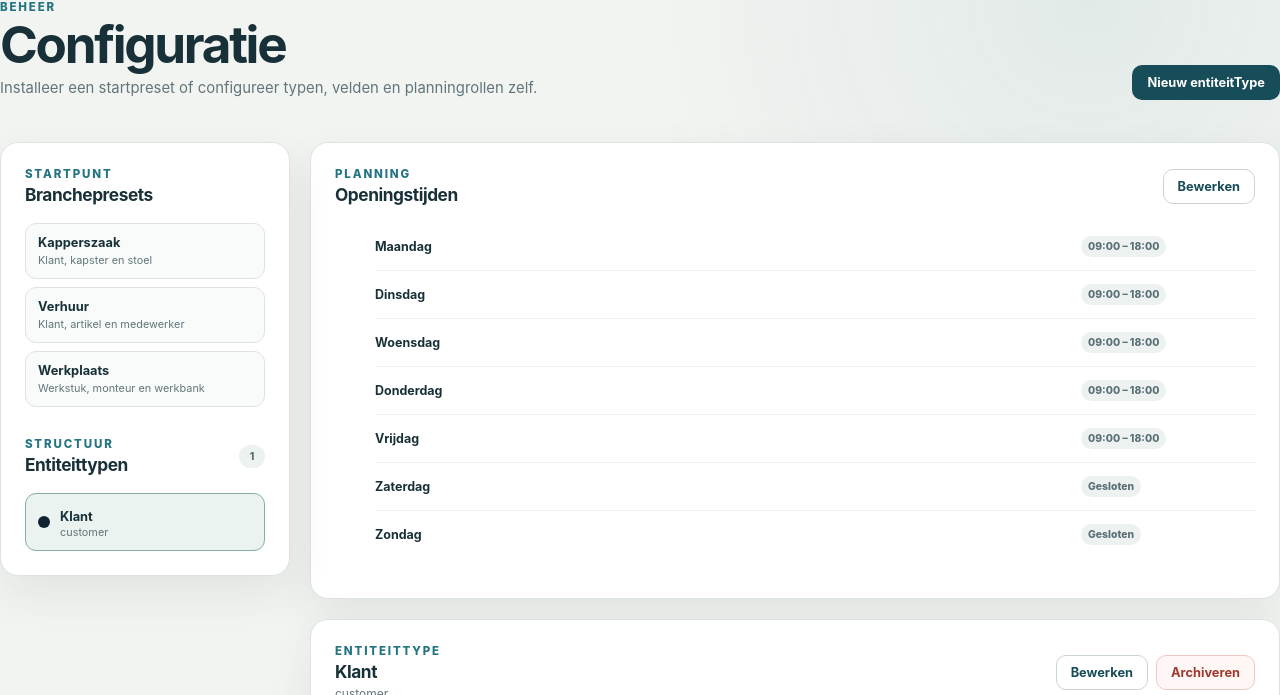
Test: ConfigurationPage › toont een duidelijke API-fout als presetinstallatie faalt
Expected: the heading "Klant" is shown, [335,661,377,682]
Click the button "Kapperszaak Klant, kapster en stoel" at [145, 251], box [25,223,265,279]
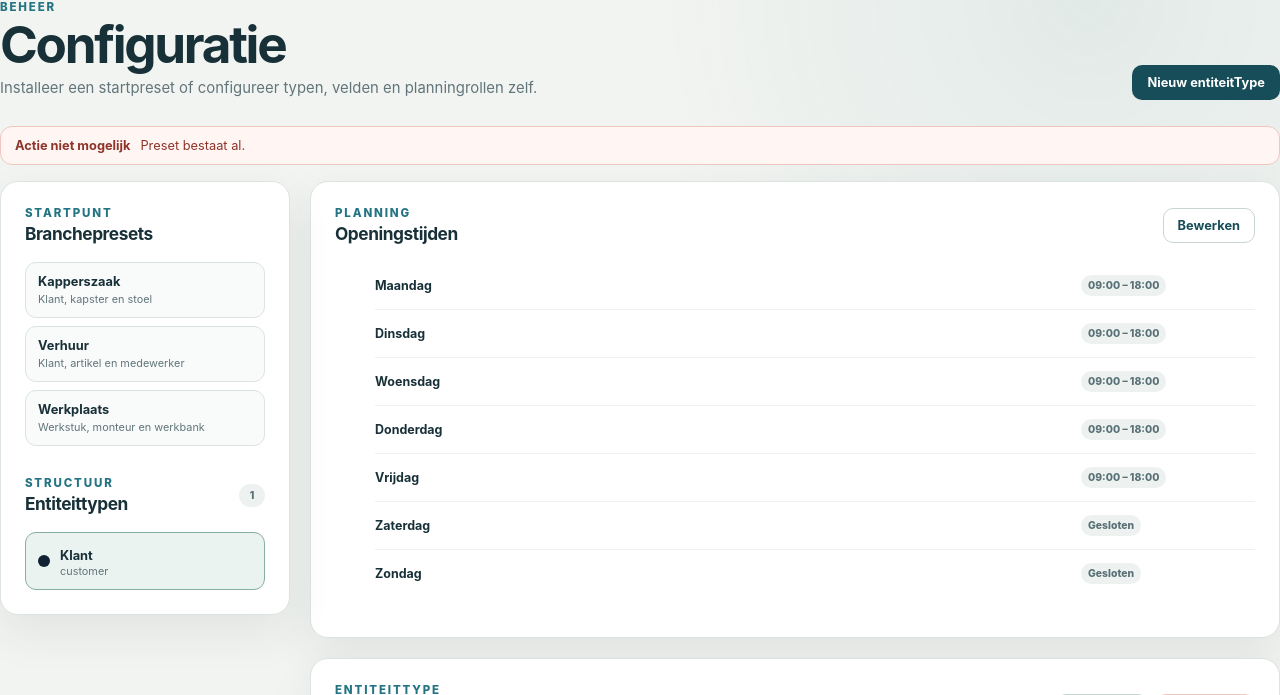
Expected: the text "Preset bestaat al." is shown, [140,138,245,153]
Expected: the text "Actie niet mogelijk" is shown, [15,138,130,153]
